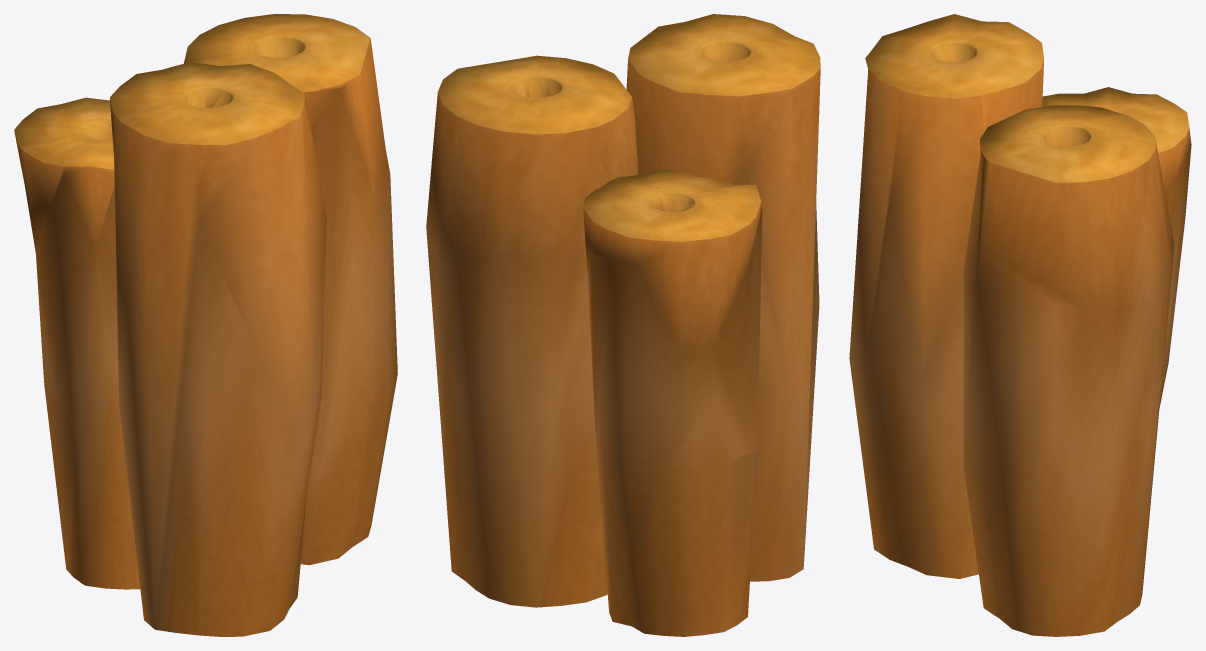
File: seaGrassCylinderOrangev2.fbx
3 renders of one model, left to right at view 1: azimuth 30°, elevation 25°; view 2: azimuth 150°, elevation 25°; view 3: azimuth 270°, elevation 25°, orthographic. The views are drawn at different scales.
Parts seen in each view (by area): view 1: seaGrassCylinderOrangev2; view 2: seaGrassCylinderOrangev2; view 3: seaGrassCylinderOrangev2.
Boxes of the visible parts, left/top/right/bottom form: seaGrassCylinderOrangev2: left=14, top=14, right=397, bottom=636; seaGrassCylinderOrangev2: left=426, top=14, right=820, bottom=636; seaGrassCylinderOrangev2: left=849, top=14, right=1191, bottom=636.
Bounding box in the file's own units: 0.0738 × 0.1085 × 0.0688.
Materials: 1 (1 with a texture image).
